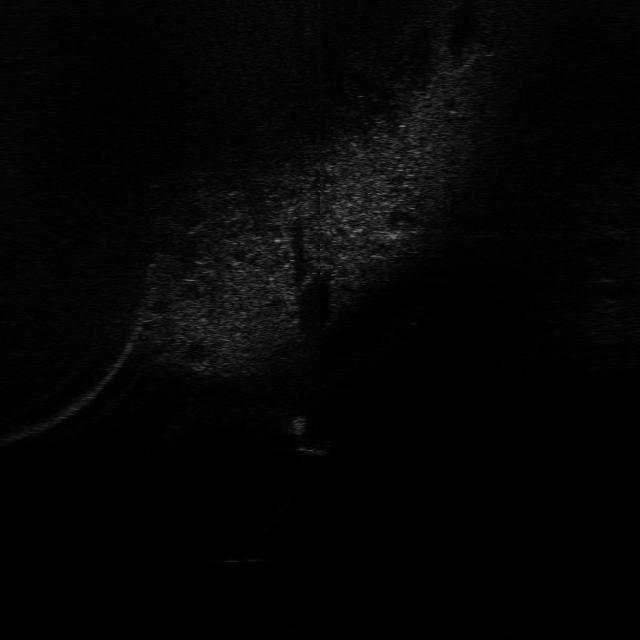cube: (289, 436, 332, 460)
cylinder: (281, 410, 313, 439)
